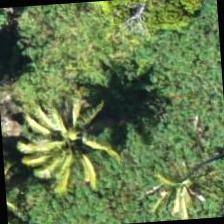Kelapa_Sawit: (28, 80, 124, 176), (126, 135, 222, 222)
